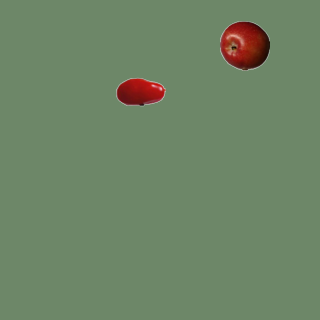Apple Braeburn: (219, 20, 269, 70)
Tomato 2: (115, 66, 165, 116)
